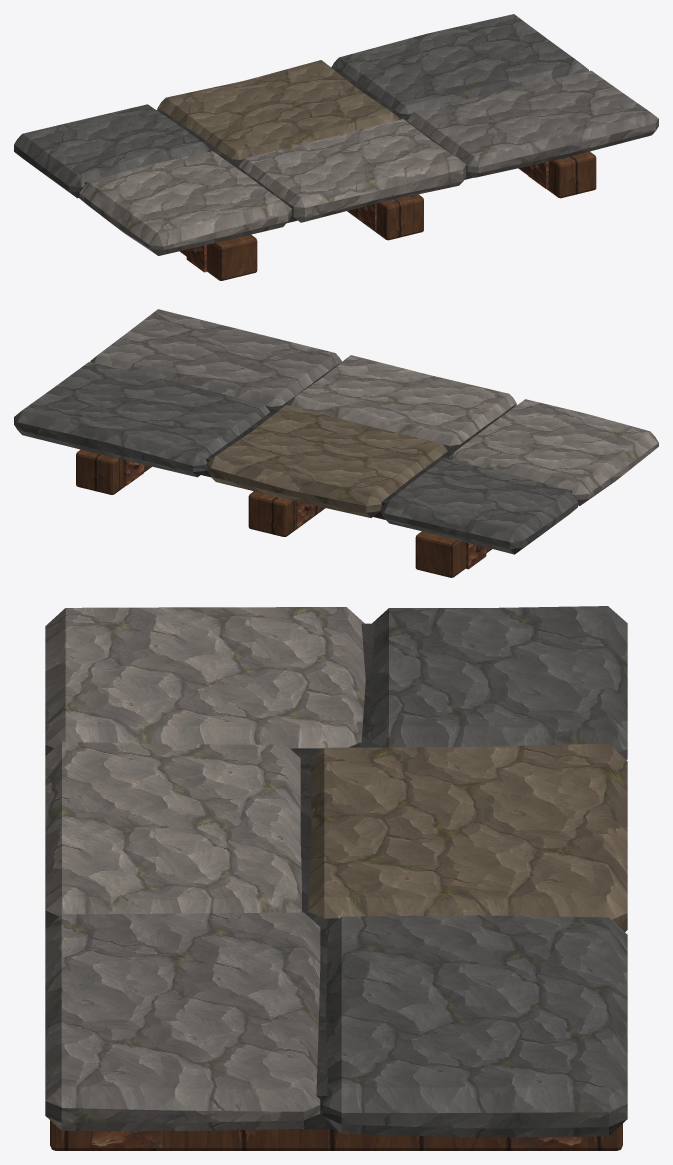
Rendered from floor_half__cut_stone.glb.
The picture shows the model from 3 angles, top to bottom: view 1: azimuth 30°, elevation 25°; view 2: azimuth 150°, elevation 25°; view 3: azimuth 270°, elevation 25°; orthographic projection. The views are drawn at different scales.
Visible parts, largest first — view 1: model; view 2: model; view 3: model.
Boxes of the visible parts, left/top/right/bottom form: model: left=14, top=14, right=658, bottom=280; model: left=14, top=309, right=658, bottom=577; model: left=45, top=606, right=627, bottom=1150.
Bounding box in the file's own units: 1.98 × 0.2346 × 0.984.
Materials: 8 (8 with a texture image).
